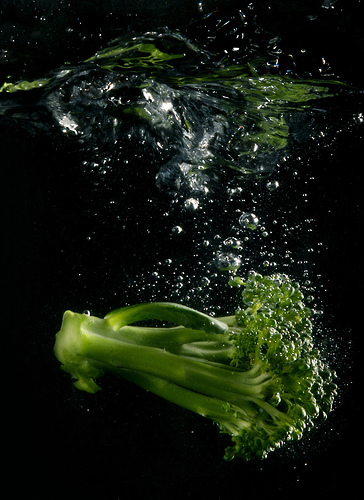broccoli: (52, 271, 340, 463)
